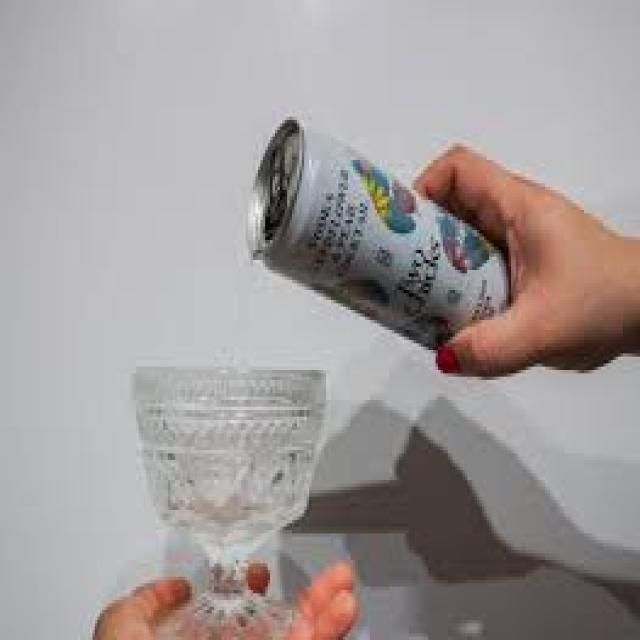Cans: (234, 96, 516, 356)
